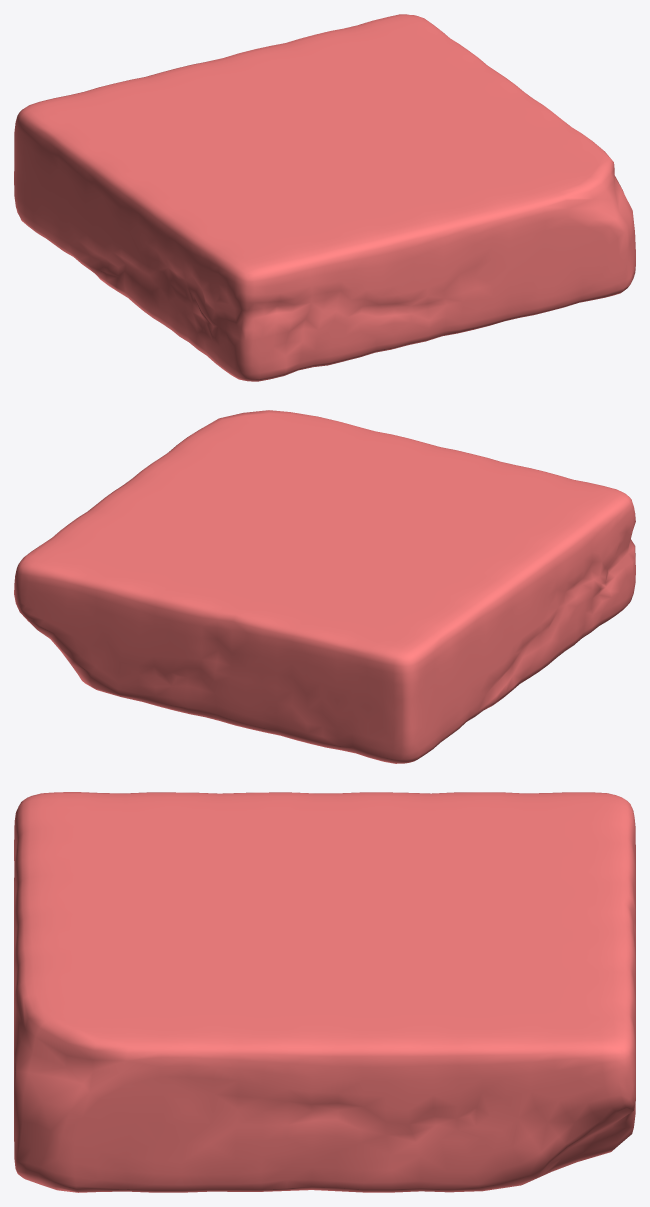
Rendered from arch02-2.fbx.
3 views of the same model, one above another, from view 1: azimuth 30°, elevation 25°; view 2: azimuth 150°, elevation 25°; view 3: azimuth 270°, elevation 25° (orthographic). The views are drawn at different scales.
Parts seen in each view (by area): view 1: pCube15; view 2: pCube15; view 3: pCube15.
Boxes of the visible parts, x1,y1,x2,y2 form: pCube15: (14,14,635,381); pCube15: (14,410,635,763); pCube15: (14,792,635,1192).
Bounding box in the file's own units: 1.5 × 0.4062 × 1.5.
